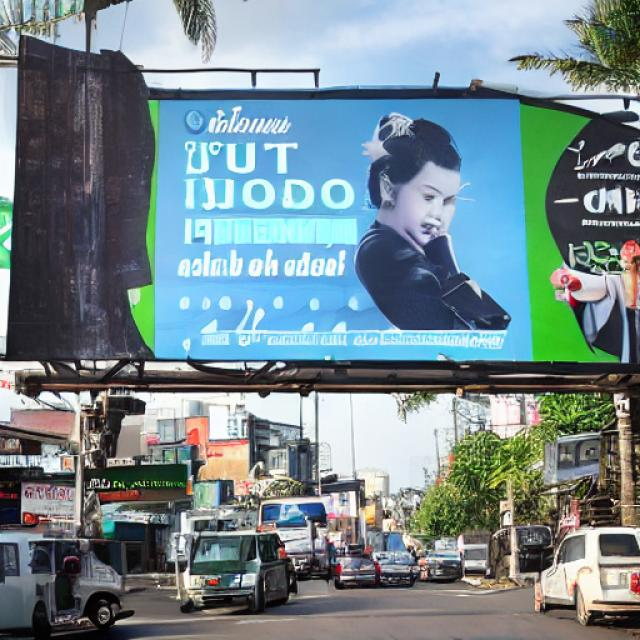Billboard: (12, 89, 640, 389)
